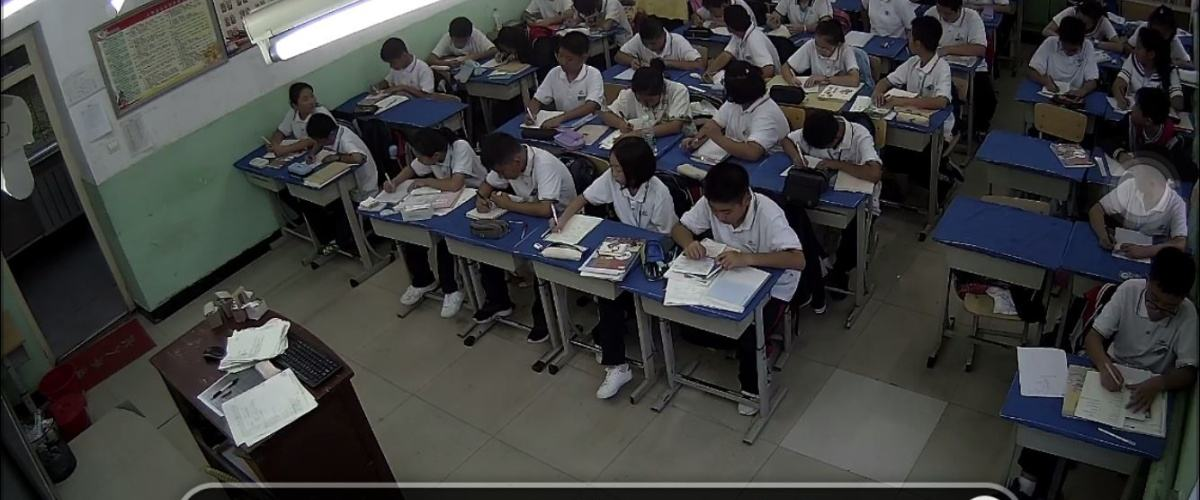person: (1085, 240, 1200, 381), (673, 168, 789, 274), (882, 15, 958, 115), (583, 136, 673, 219), (468, 131, 564, 207), (710, 59, 787, 140), (528, 26, 603, 109), (787, 100, 868, 170), (396, 123, 472, 192), (1118, 26, 1187, 101), (605, 60, 679, 128), (791, 16, 857, 92), (614, 7, 696, 67), (1120, 83, 1183, 160), (371, 28, 438, 92), (722, 2, 779, 77), (1046, 14, 1100, 91), (268, 78, 330, 142), (304, 115, 368, 176), (922, 1, 984, 53), (431, 14, 498, 59)
